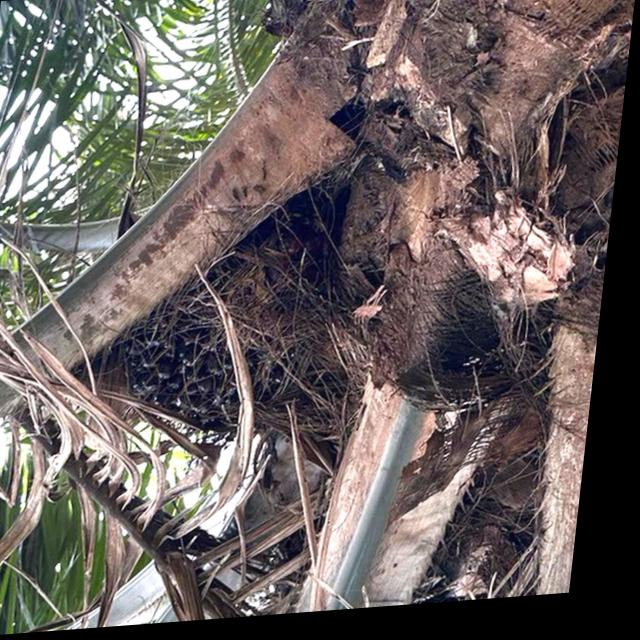almost: (113, 185, 365, 452)
